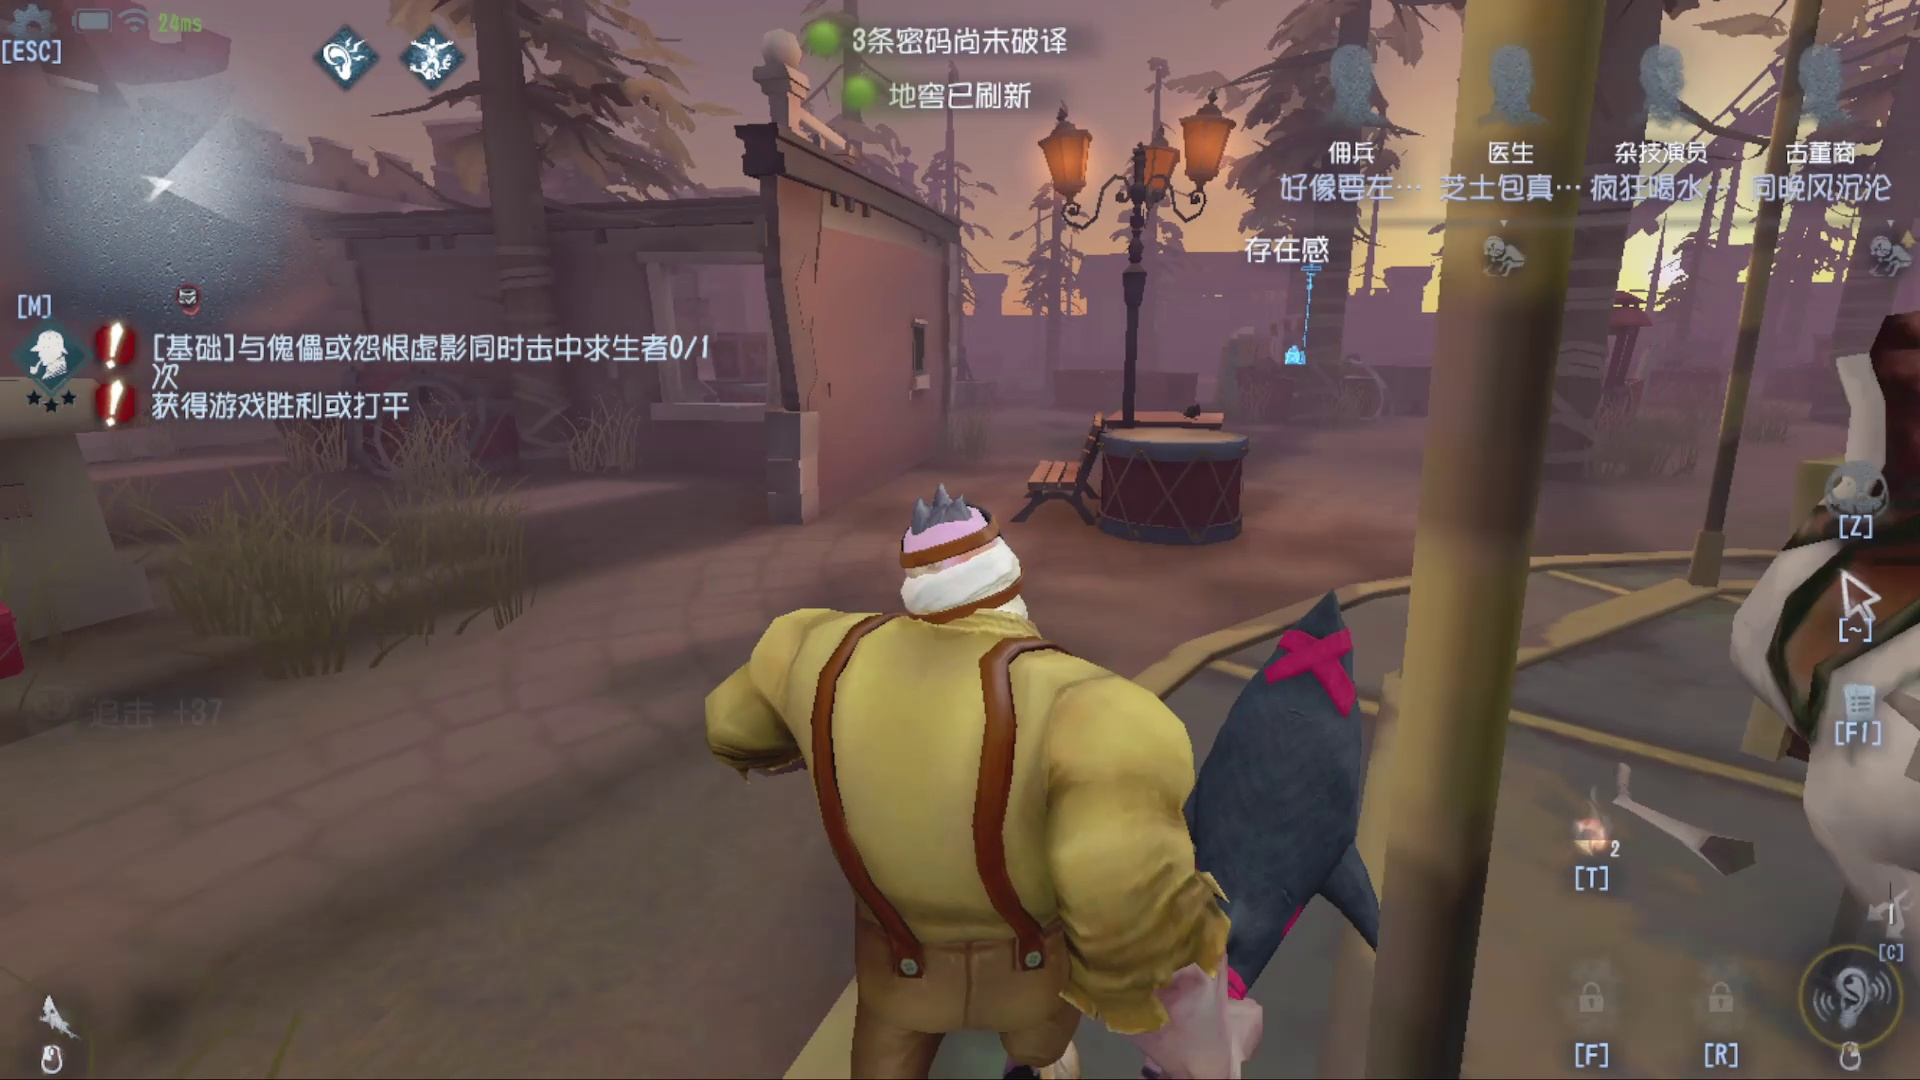密码机: (1278, 229, 1325, 376)
木板: (1207, 330, 1262, 427)
